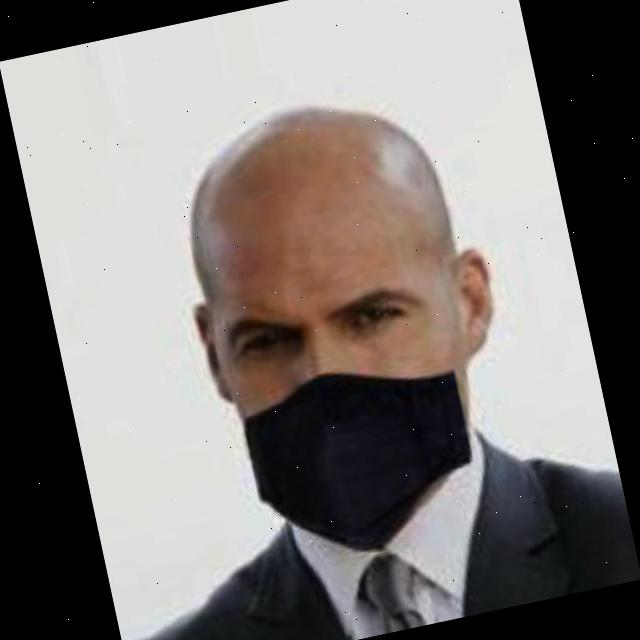suspicion: (88, 41, 598, 593)
